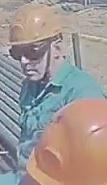goggles: (7, 41, 56, 60)
helmet: (27, 97, 107, 185), (5, 3, 65, 47)
vest: (18, 62, 104, 170)
